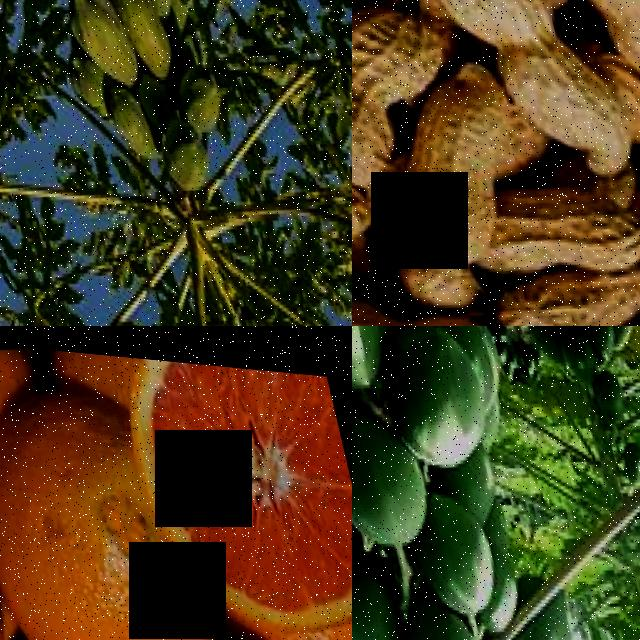orange: (150, 350, 352, 633), (0, 365, 207, 640)
pawpaw: (368, 326, 497, 476), (401, 481, 491, 611), (352, 404, 423, 547), (55, 0, 134, 80), (146, 114, 209, 190), (352, 543, 396, 640), (100, 75, 152, 157), (381, 598, 478, 640), (107, 0, 167, 66), (168, 55, 222, 128), (583, 357, 626, 421), (548, 326, 596, 377), (517, 326, 558, 358), (578, 326, 616, 360)
peanuts: (370, 100, 510, 272), (493, 26, 628, 175), (485, 156, 640, 279), (468, 244, 640, 326), (352, 0, 447, 116), (426, 0, 565, 75), (352, 277, 505, 326), (615, 71, 640, 260), (548, 0, 640, 49), (352, 69, 384, 206)
